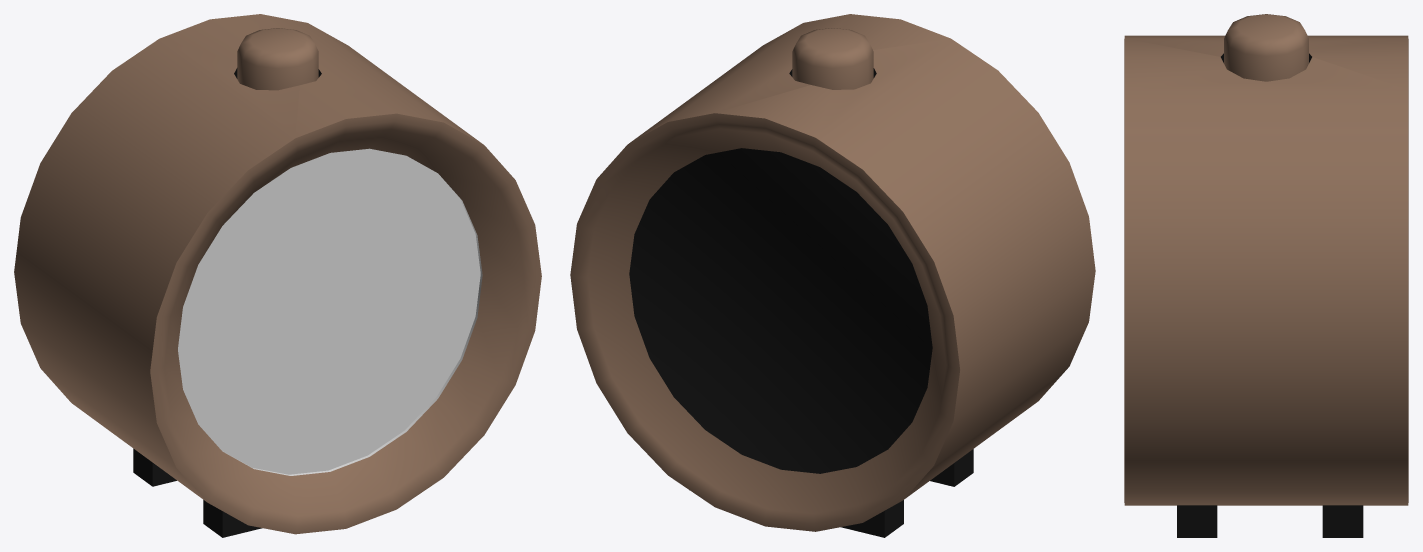
Rendered from Clock_02.fbx.
The picture shows the model from 3 angles, left to right: view 1: azimuth 30°, elevation 25°; view 2: azimuth 150°, elevation 25°; view 3: azimuth 270°, elevation 25°; orthographic projection. The views are drawn at different scales.
Parts seen in each view (by area): view 1: Clock_02, Clock_02_Button; view 2: Clock_02, Clock_02_Button; view 3: Clock_02, Clock_02_Button.
Part boxes in pixels (x1,y1,x2,y2): Clock_02: (14,14,541,537); Clock_02_Button: (237,28,318,90); Clock_02: (570,14,1095,537); Clock_02_Button: (792,28,873,89); Clock_02: (1124,35,1408,537); Clock_02_Button: (1224,14,1308,81).
Bounding box in the file's own units: 0.2 × 0.2157 × 0.1206.
